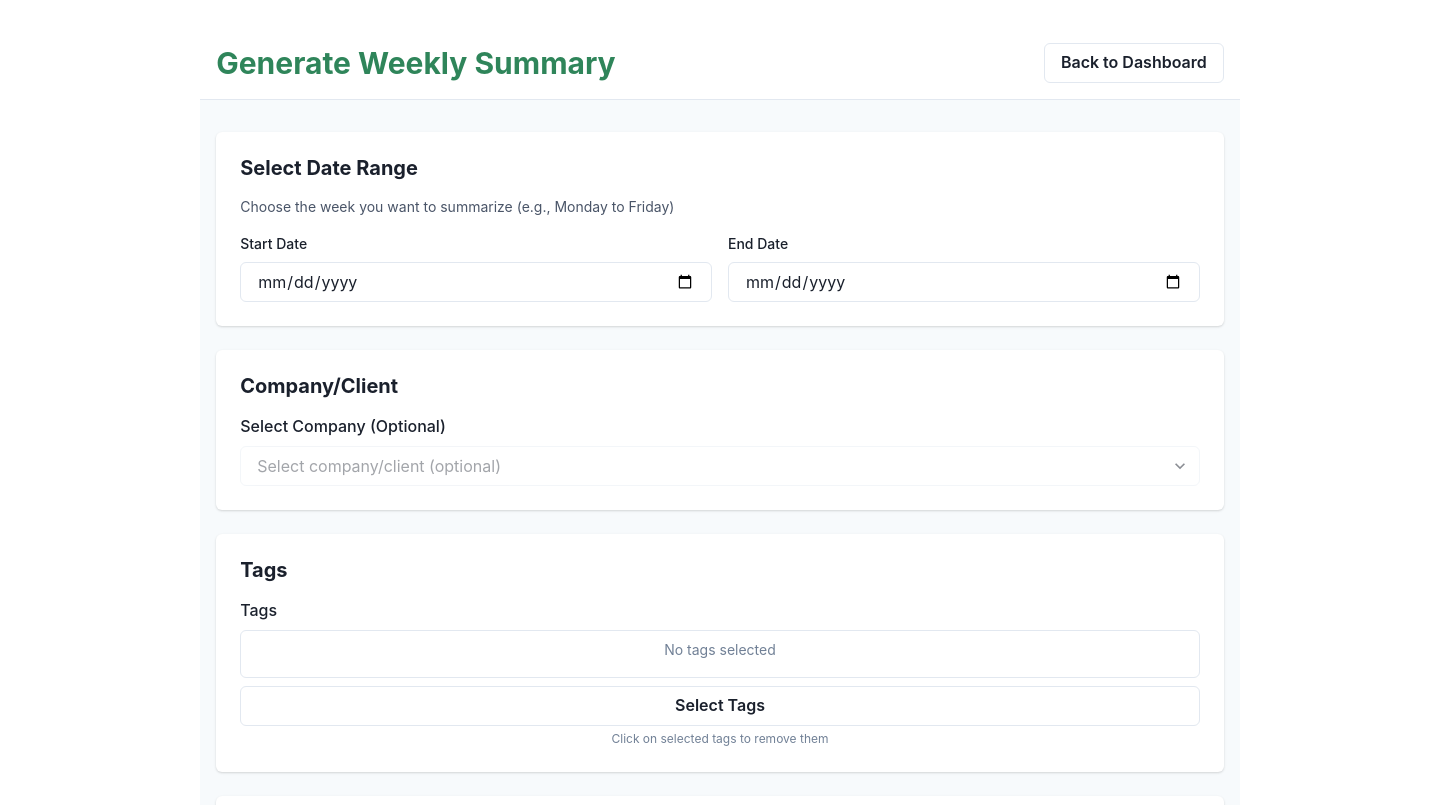
it: CreateWeeklyUpdate page › saves a generated summary and shows a success toast
Type "2026-07-01" into the date field below "Start Date".
click(476, 282); type("2026-07-01")  # box left=240, top=262, right=712, bottom=302
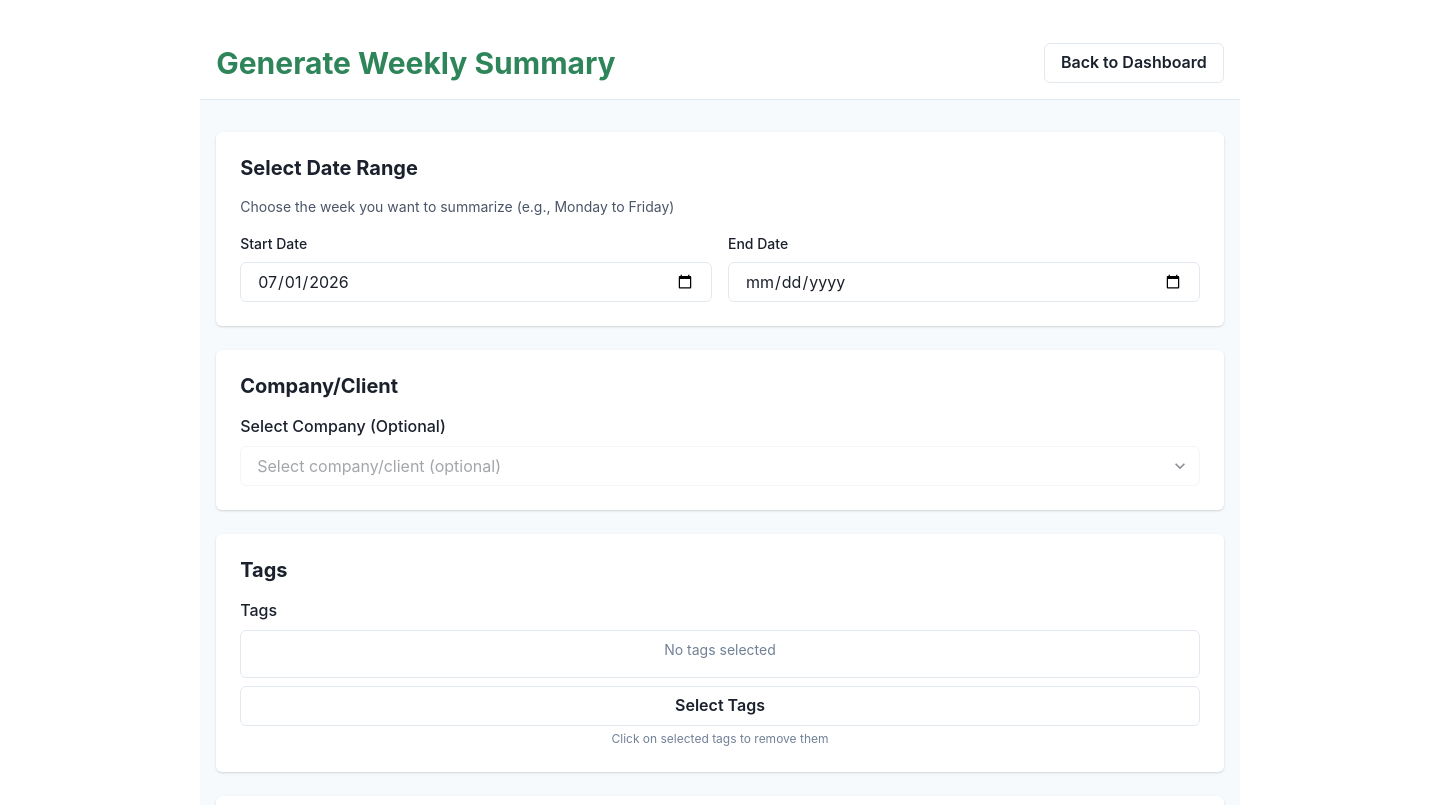
Type "2026-07-05" into the date field below "End Date".
click(964, 282); type("2026-07-05")  # box left=728, top=262, right=1200, bottom=302
(page scrolled)
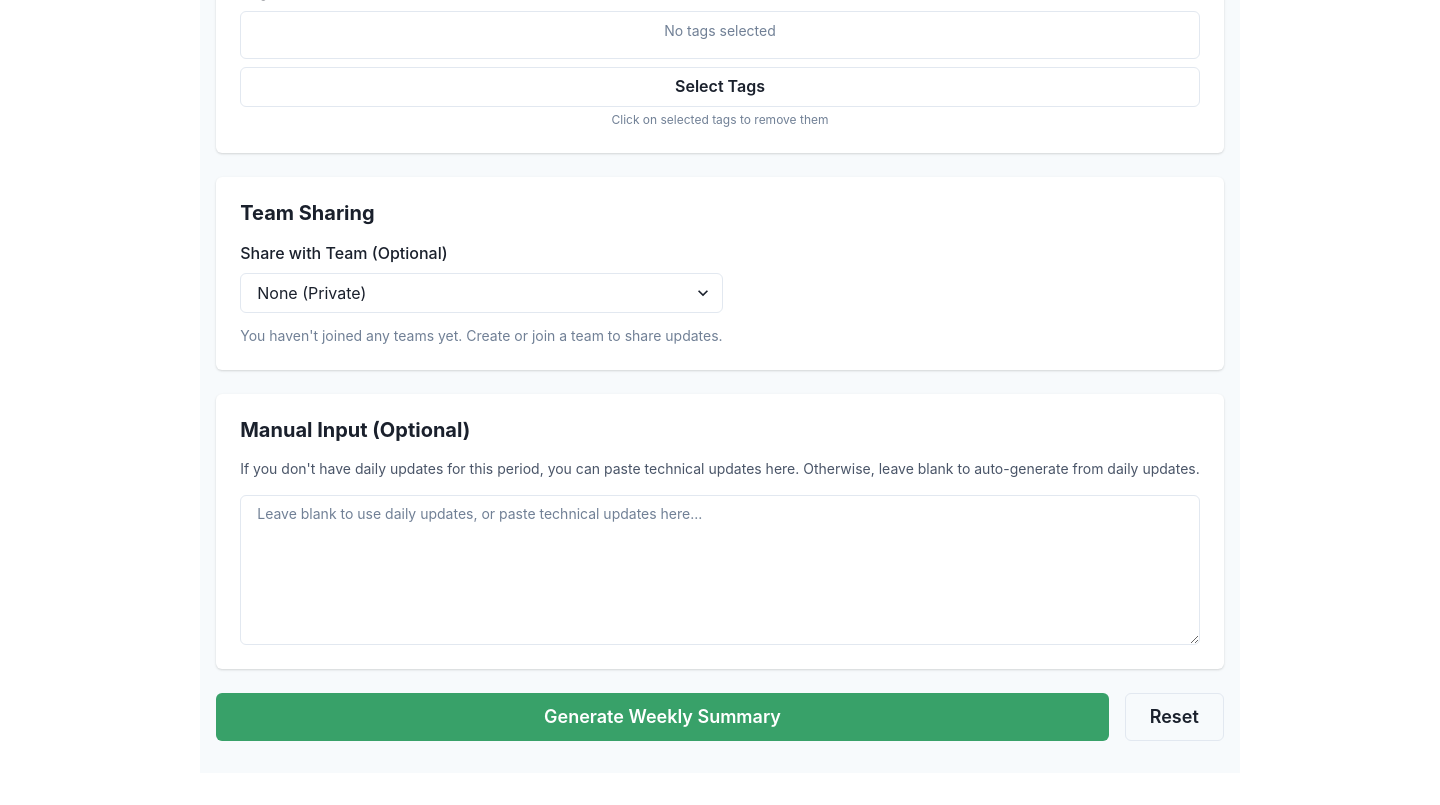
Click the button "Generate Weekly Summary".
click(662, 717)  # box left=216, top=693, right=1109, bottom=741
(page scrolled)
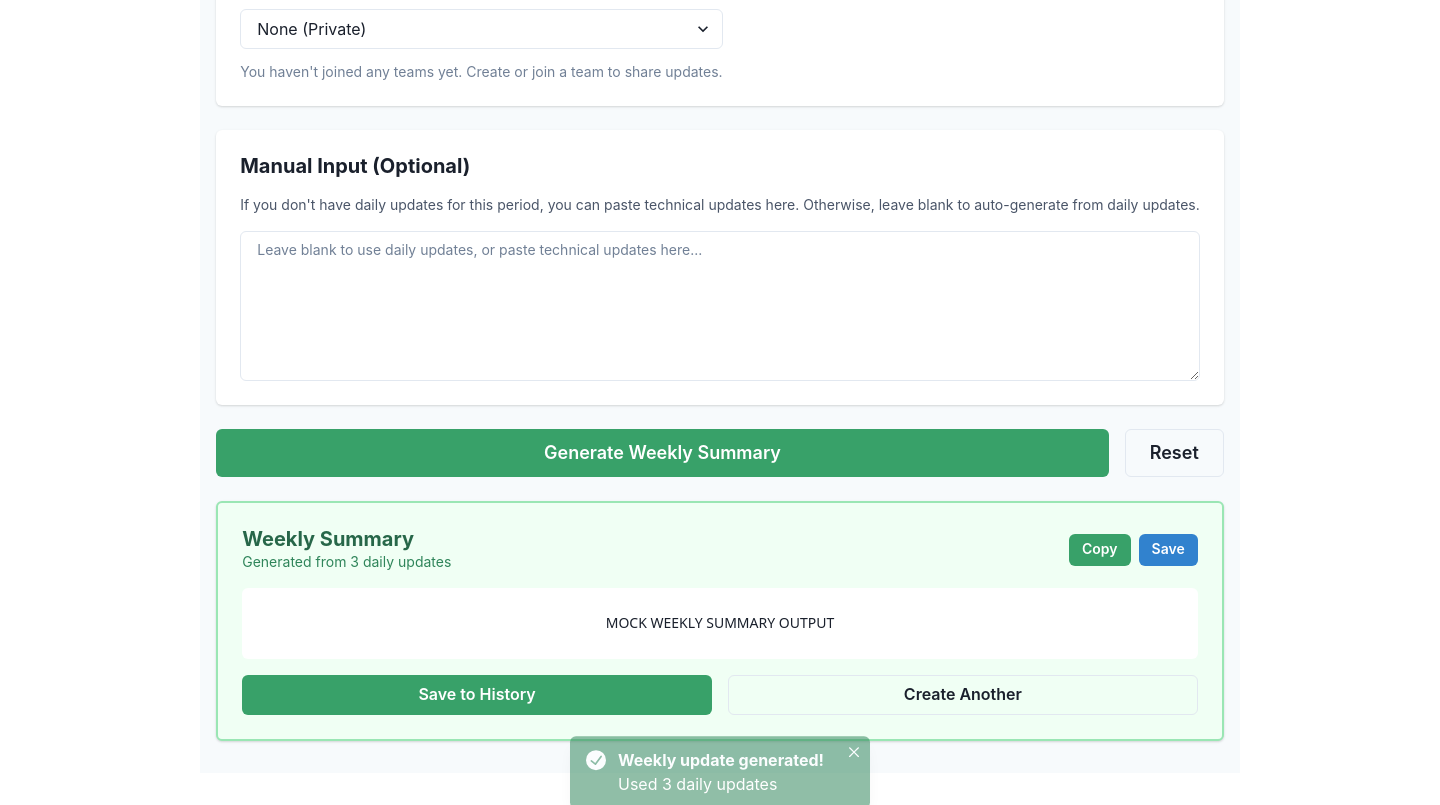
Result: the text "MOCK WEEKLY SUMMARY OUTPUT" is shown at left=242, top=588, right=1198, bottom=659
Click the button "Save to History".
click(477, 695)  # box left=242, top=675, right=712, bottom=715
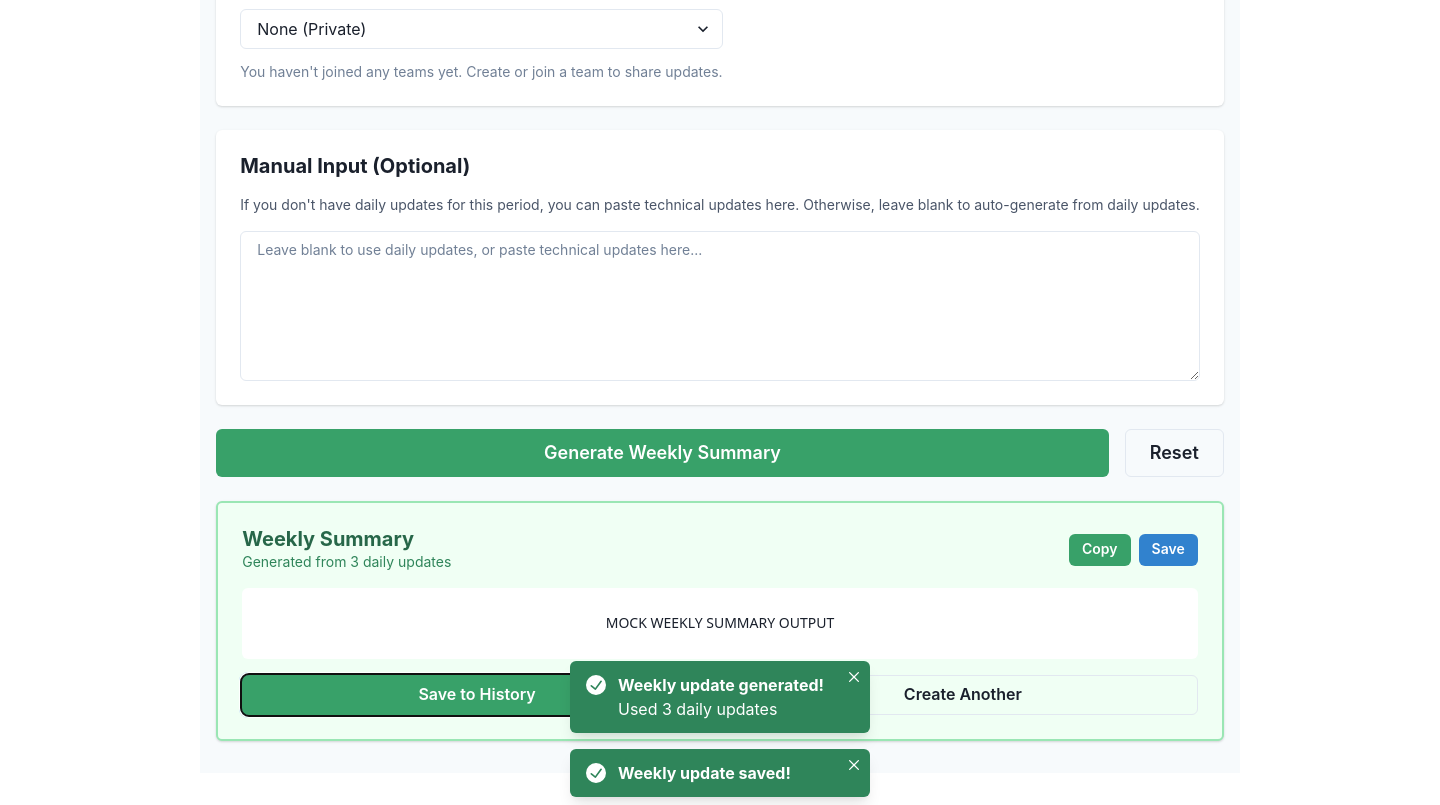
Result: the text "Weekly update saved!" is shown at left=618, top=763, right=791, bottom=783
